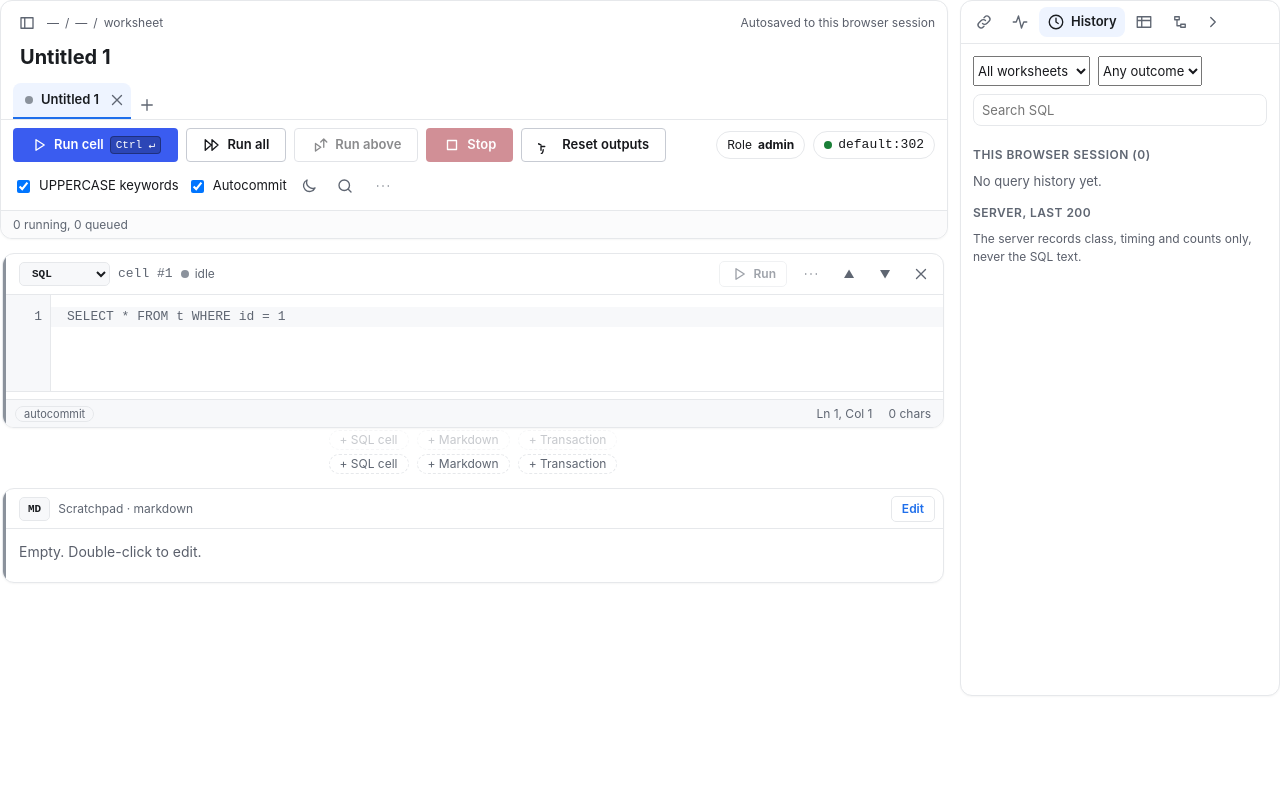
IdePage: several statements in one cell › a trailing semicolon is a single statement and is not sent
Type "SELECT 1;" into the text box named "Cell 1 SQL" at (497, 343), box [51, 295, 943, 391]
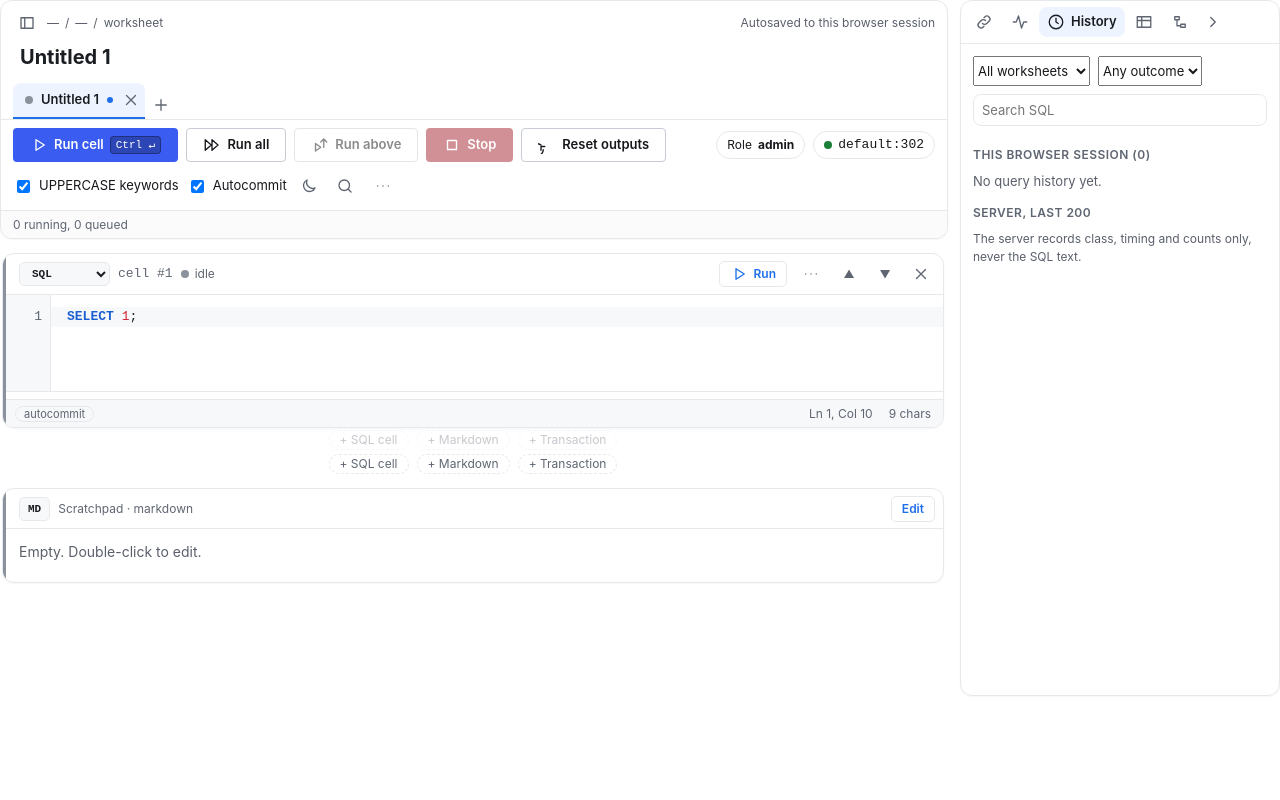
Click the button with aria-label "Run cell 1" at (753, 274), box [720, 261, 787, 287]
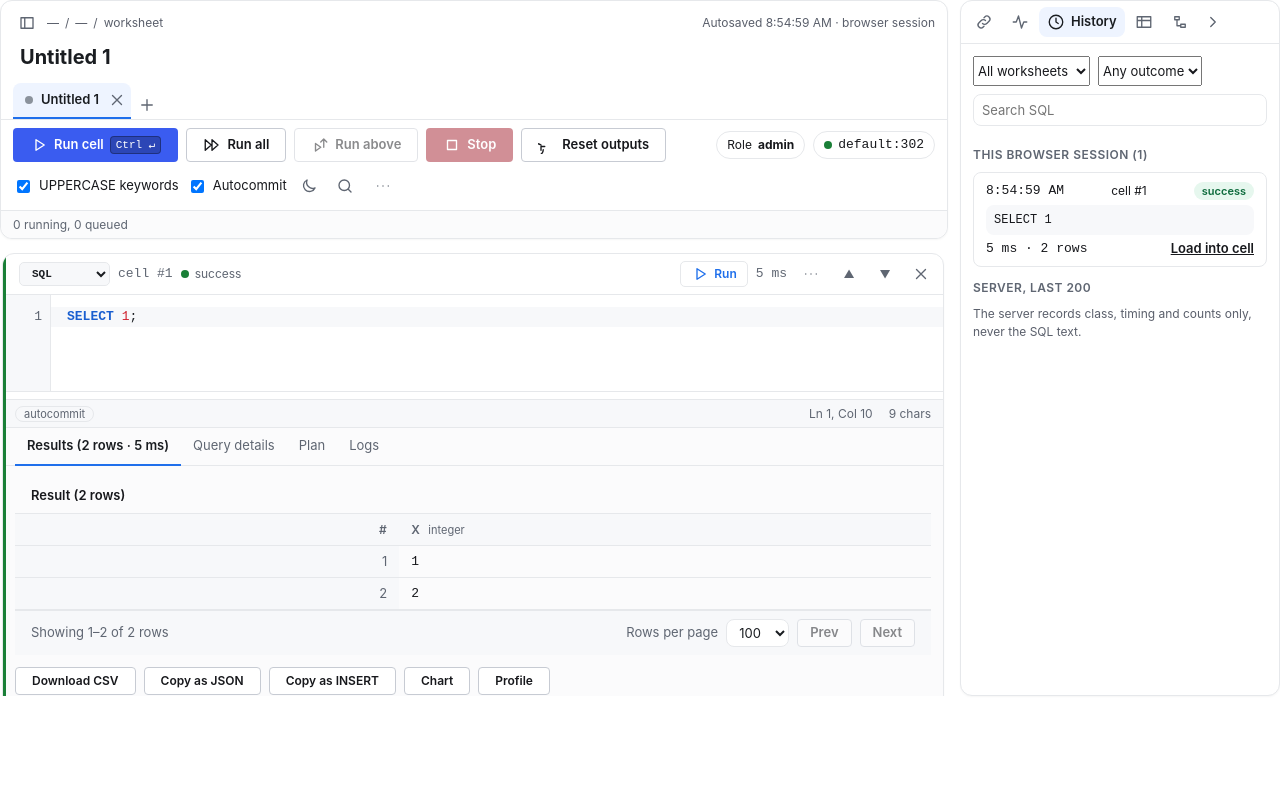
expect the text "Showing 1–2 of 2 rows" is shown: met, box [31, 623, 169, 643]
